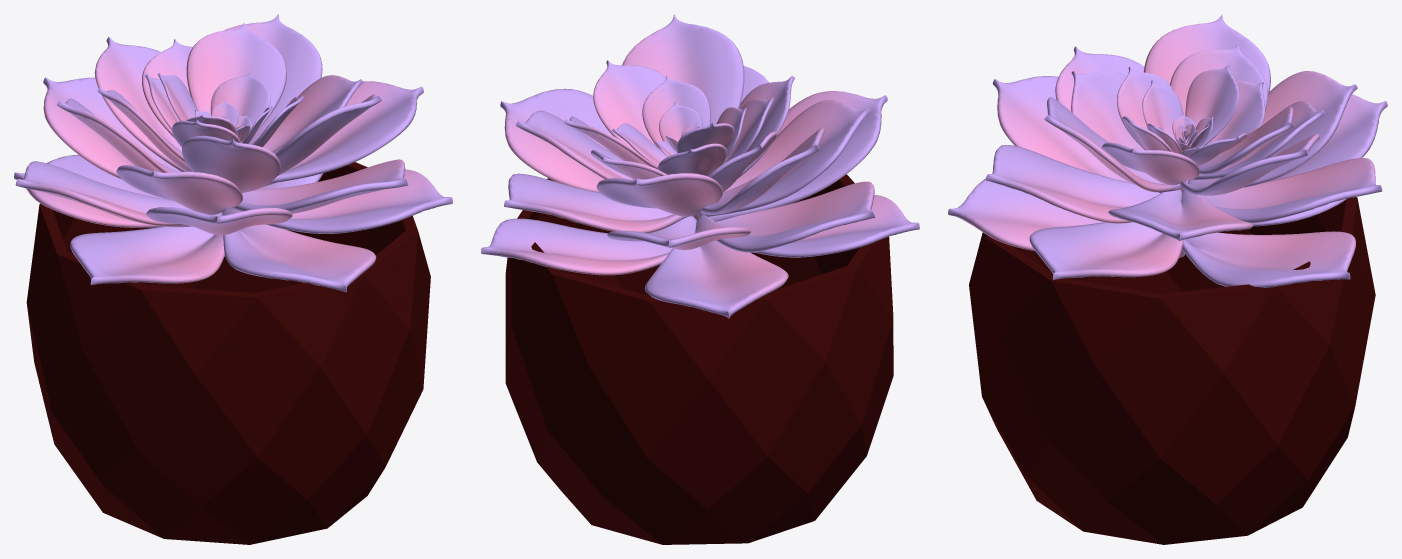
File: PERLE_VON_NERNBERG_PORCELAIN_DIAMOND_POT.glb
The picture shows the model from 3 angles, left to right: view 1: azimuth 30°, elevation 25°; view 2: azimuth 150°, elevation 25°; view 3: azimuth 270°, elevation 25°; orthographic projection.
Parts seen in each view (by area): view 1: DiamondPlanterHole, Vase 2; view 2: DiamondPlanterHole, Vase 2; view 3: DiamondPlanterHole, Vase 2.
Boxes of the visible parts, x1=… form: DiamondPlanterHole: x1=26, y1=162, x2=430, y2=544; Vase 2: x1=14, y1=14, x2=452, y2=292; DiamondPlanterHole: x1=505, y1=174, x2=893, y2=544; Vase 2: x1=481, y1=14, x2=919, y2=318; DiamondPlanterHole: x1=969, y1=197, x2=1375, y2=544; Vase 2: x1=948, y1=14, x2=1387, y2=287.
Bounding box in the file's own units: 1.09 × 1.1 × 1.06.
Materials: 2 (2 with a texture image).
